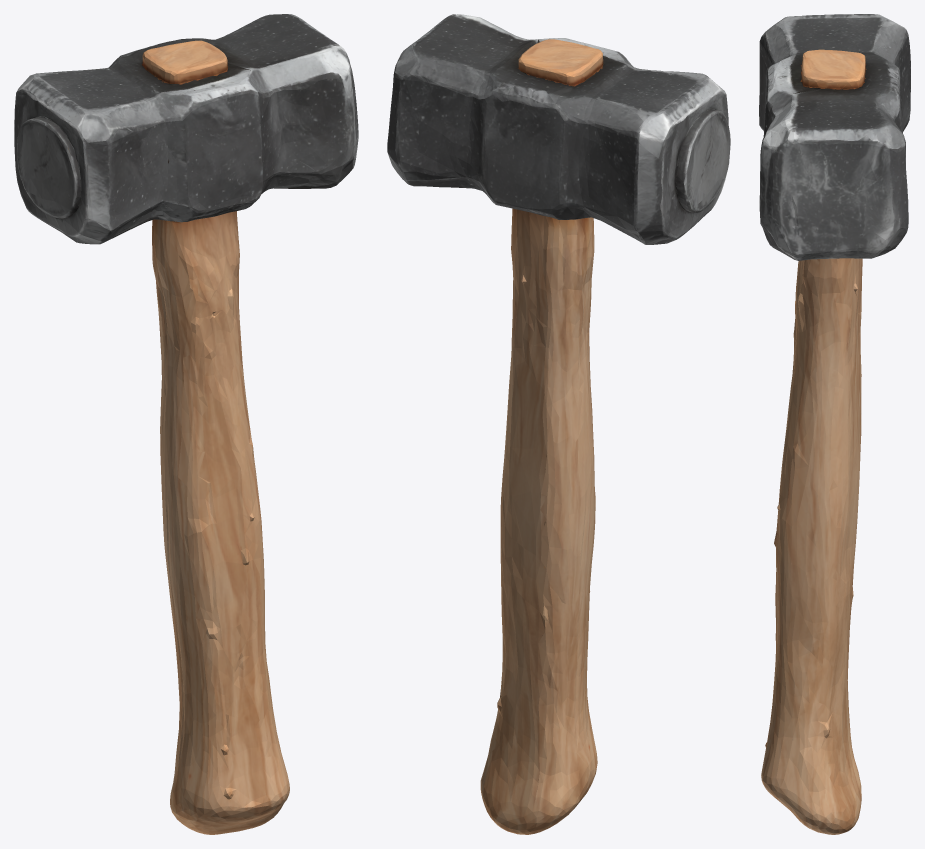
Rendered from modelo.glb.
3 views of the same model, side by side, from view 1: azimuth 30°, elevation 25°; view 2: azimuth 150°, elevation 25°; view 3: azimuth 270°, elevation 25° (orthographic). The views are drawn at different scales.
Parts seen in each view (by area): view 1: Mesh_0; view 2: Mesh_0; view 3: Mesh_0.
Boxes of the visible parts, box(x1,y1,x2,y2) form: Mesh_0: box(14, 14, 358, 834); Mesh_0: box(387, 14, 730, 834); Mesh_0: box(759, 14, 910, 834).
Bounding box in the file's own units: 0.3868 × 0.9923 × 0.1832.
Materials: 1 (1 with a texture image).
